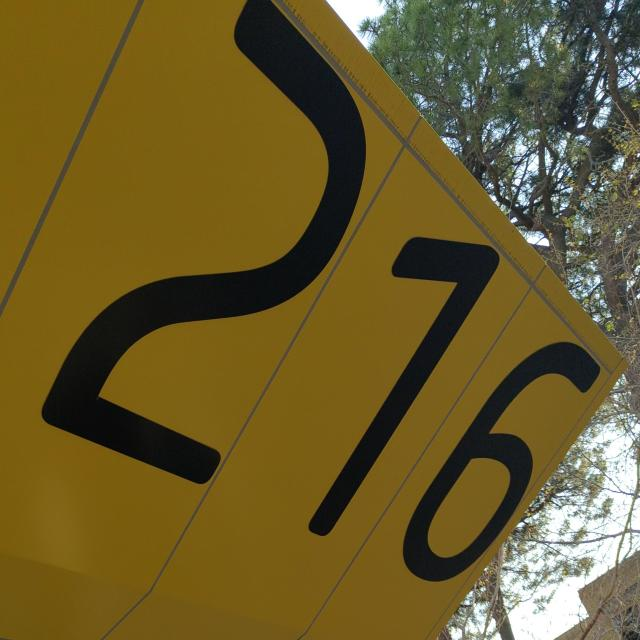character: (38, 0, 373, 488), (305, 229, 503, 538), (398, 333, 606, 585)
